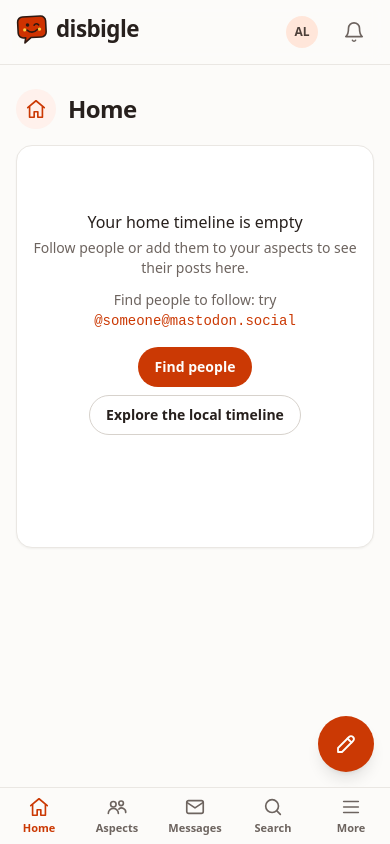
mobile navigation › closes the More sheet after choosing a page
Step 1. Click the button "More" → (351, 816), box x1=312 y1=788 x2=389 y2=843
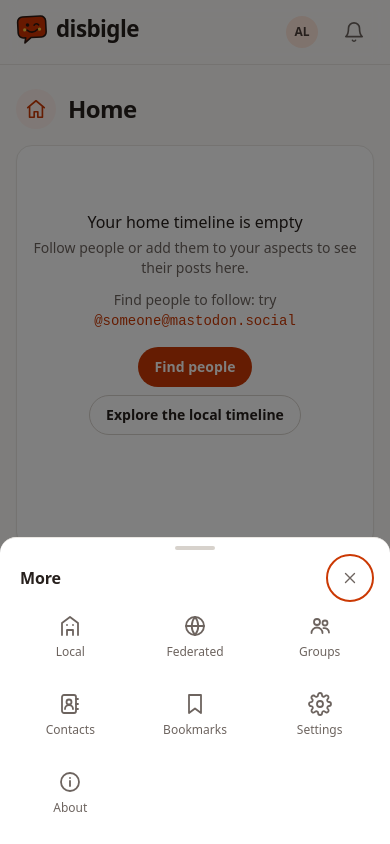
Step 2. Click the link "Bookmarks" → (195, 715), box x1=163 y1=692 x2=227 y2=738
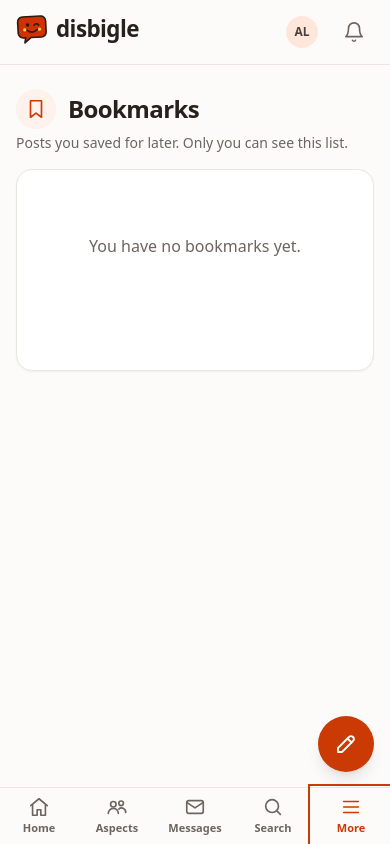
Result: the dialog is gone
